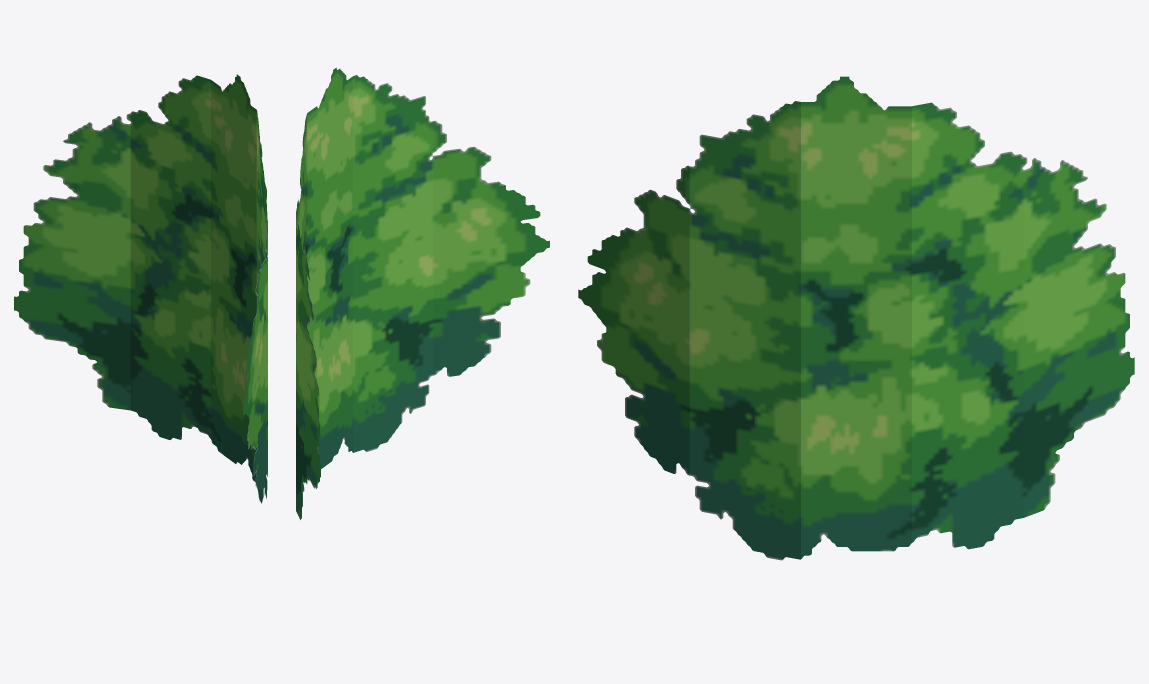
File: eikenboom_bladeren.fbx
3 views of the same model, side by side, from view 1: azimuth 30°, elevation 25°; view 2: azimuth 150°, elevation 25°; view 3: azimuth 270°, elevation 25° (orthographic). The views are drawn at different scales.
Parts seen in each view (by area): view 1: eikenboom_bladeren; view 2: eikenboom_bladeren; view 3: eikenboom_bladeren.
Boxes of the visible parts, <box> form: eikenboom_bladeren: <box>14,74,267,503</box>; eikenboom_bladeren: <box>296,67,549,519</box>; eikenboom_bladeren: <box>578,76,1134,560</box>.
Bounding box in the file's own units: 22.59 × 100 × 85.
1 material, 1 textured.
